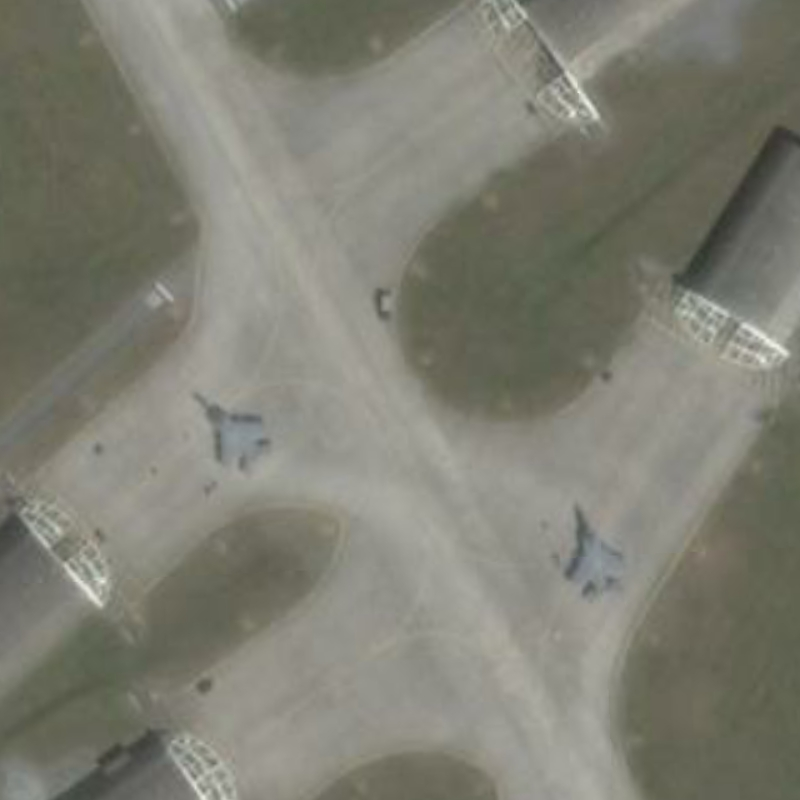A13: (188, 383, 280, 486), (561, 494, 631, 605)
